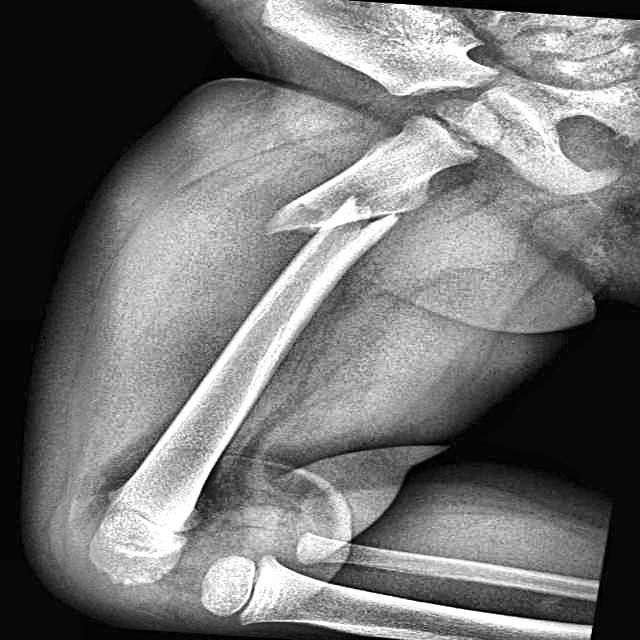Oblique: (247, 161, 433, 256)
